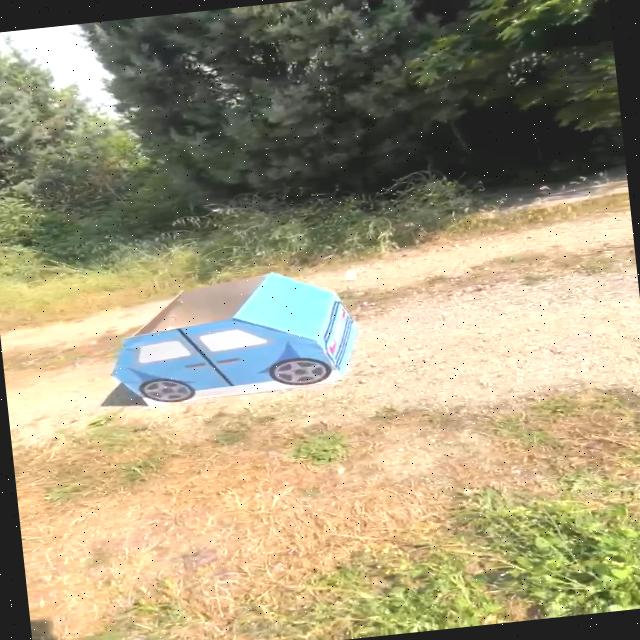blue_car: (80, 247, 392, 440)
